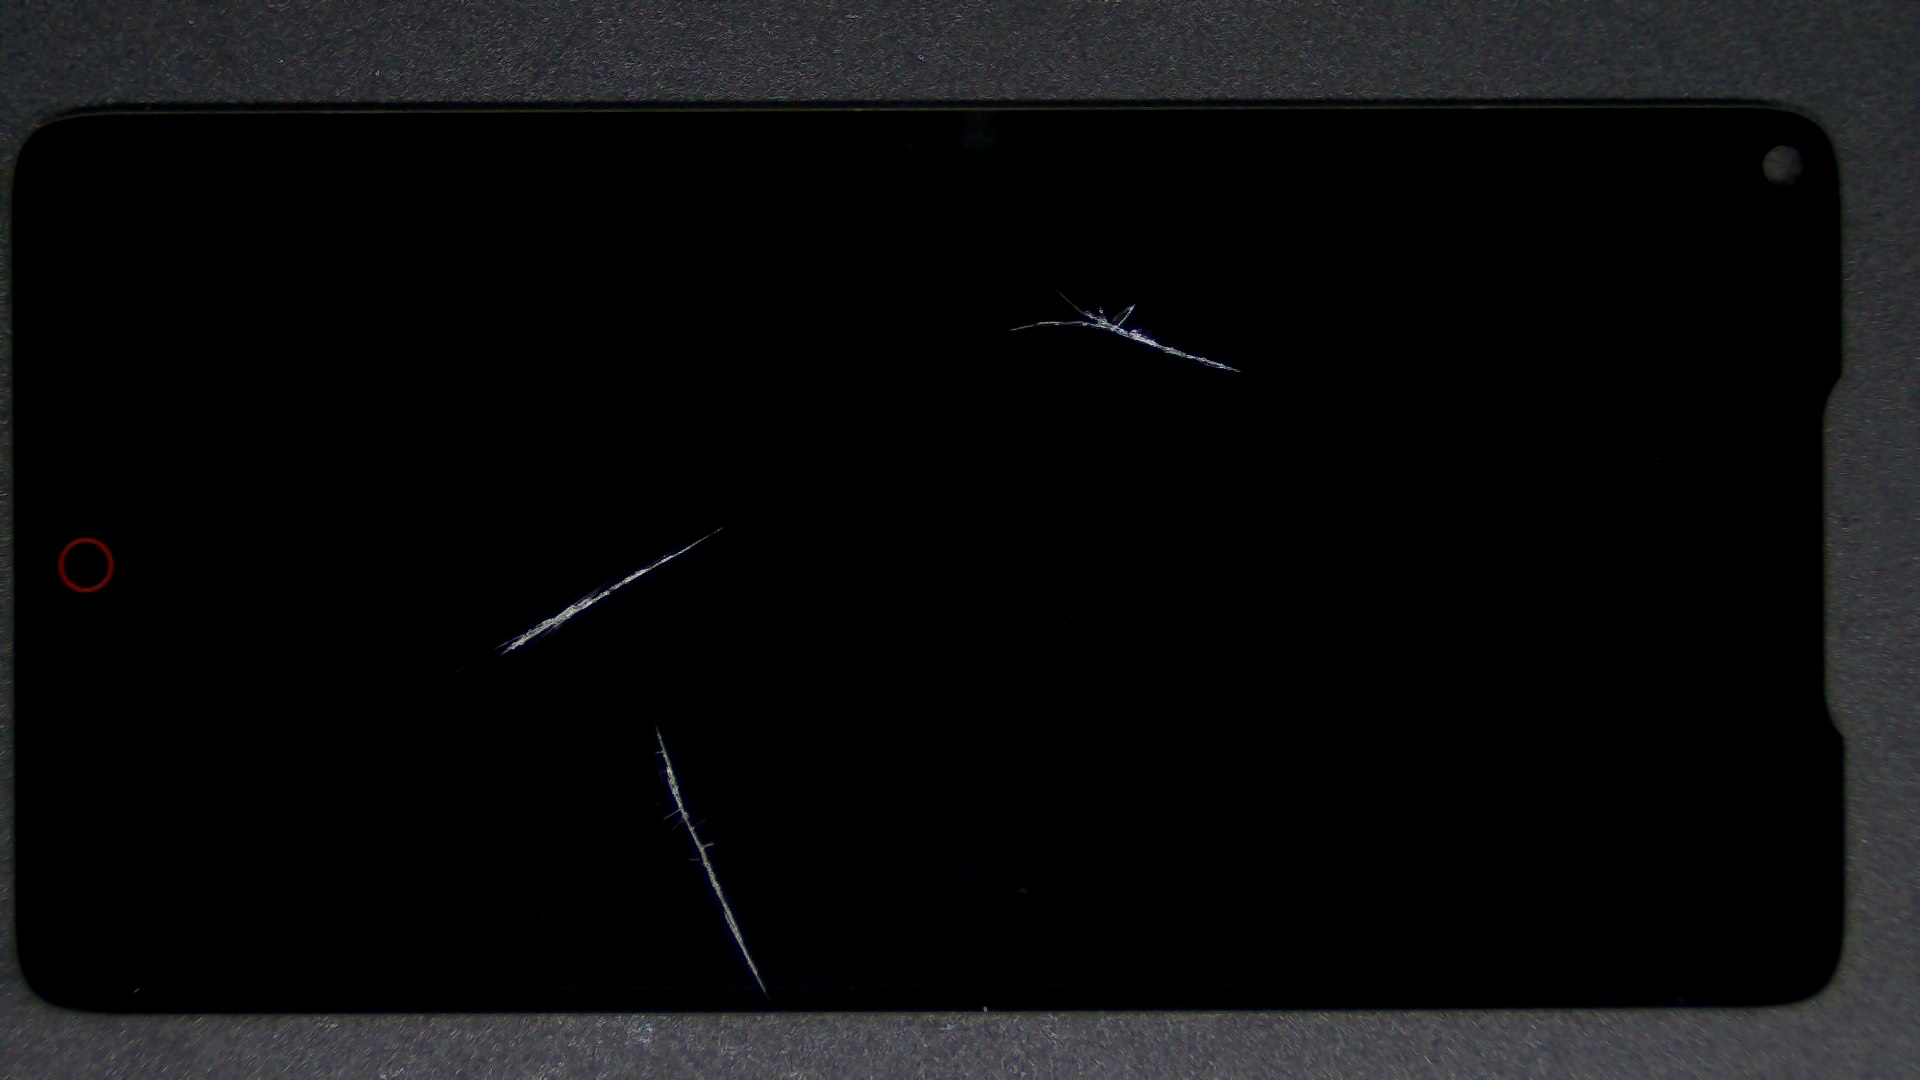oil: (327, 361, 981, 1080), (361, 262, 1083, 789), (529, 144, 1585, 434)
